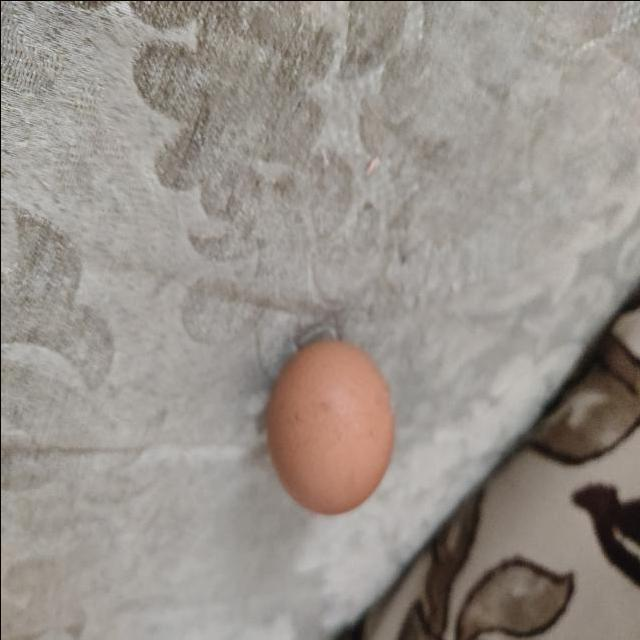egg: (262, 335, 397, 517)
